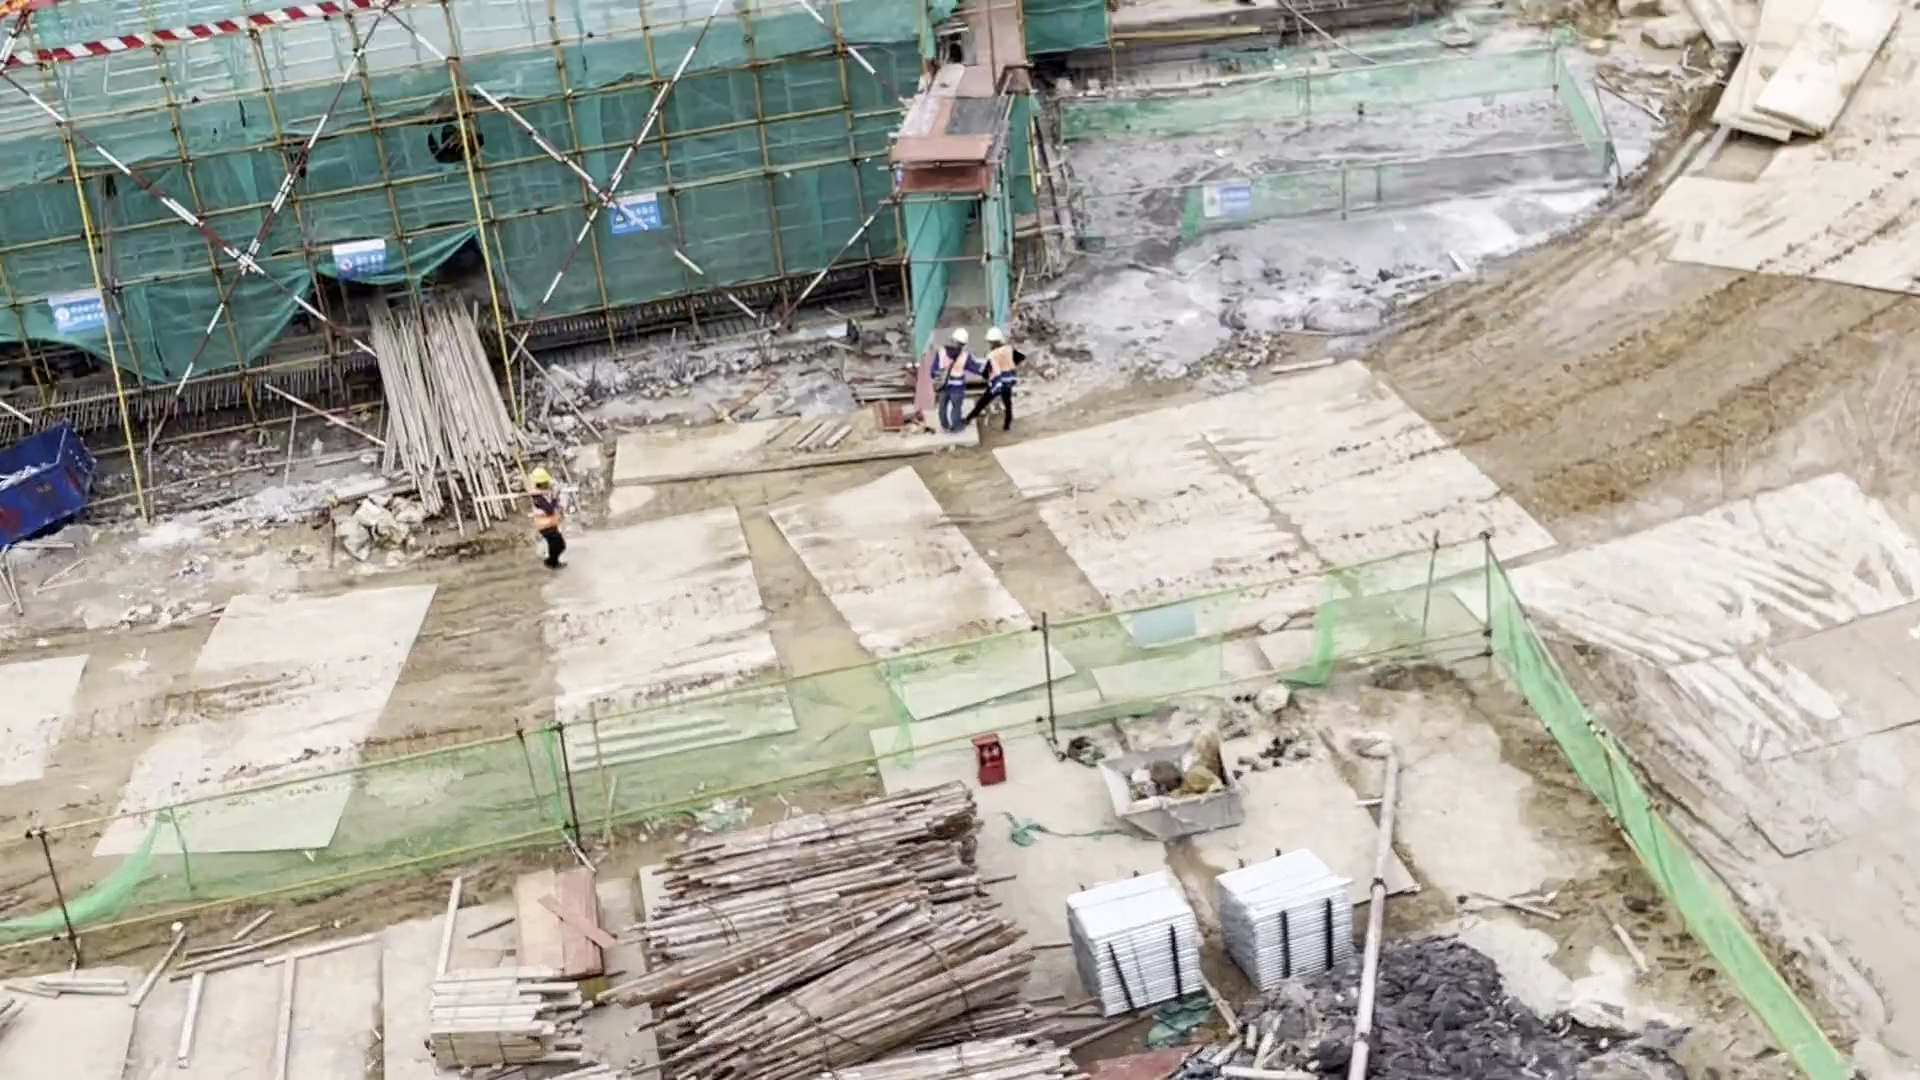helmet: (983, 326, 1005, 344), (532, 468, 549, 486), (953, 331, 969, 346)
hopper: (1, 426, 99, 543)
person: (926, 331, 986, 430), (972, 326, 1023, 435), (524, 467, 567, 573)
vest: (937, 344, 965, 390), (987, 348, 1017, 389), (530, 492, 557, 529)
wood: (648, 939, 1049, 1080), (640, 798, 1006, 943), (365, 283, 523, 548), (425, 941, 600, 1079), (872, 1004, 1085, 1080)
